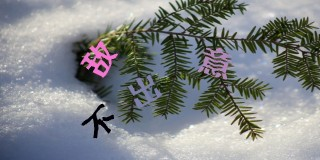不: (80, 103, 115, 137)
出: (128, 74, 162, 108)
意: (197, 45, 231, 81)
敌: (80, 39, 120, 78)
